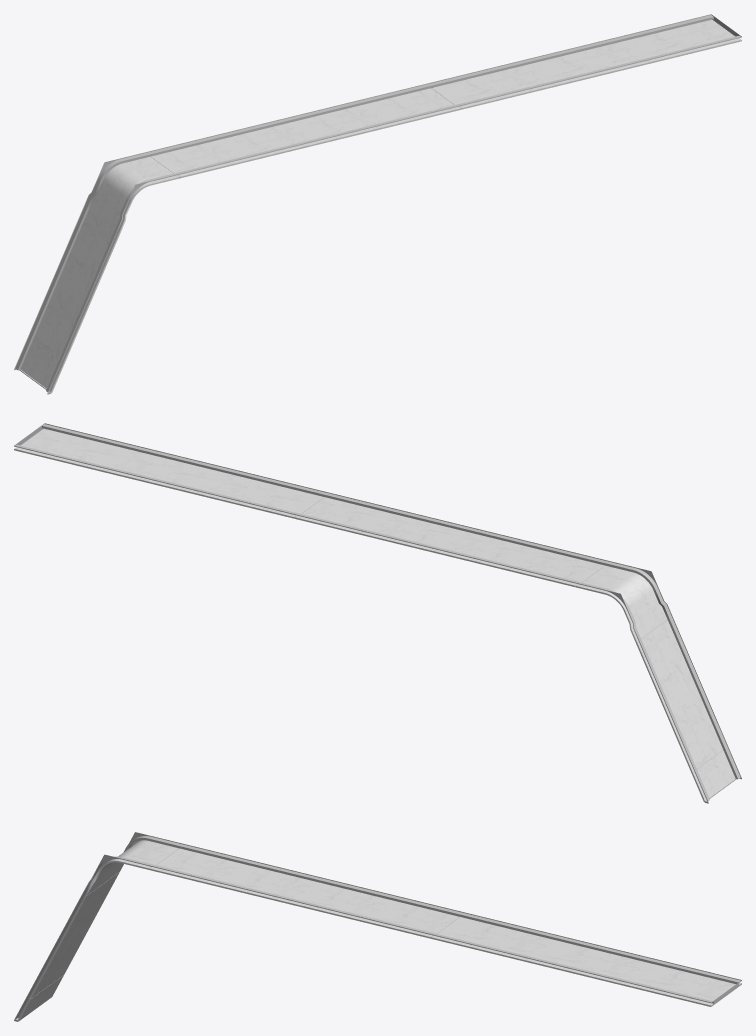
3 views of the same model, one above another, from view 1: azimuth 30°, elevation 25°; view 2: azimuth 150°, elevation 25°; view 3: azimuth 330°, elevation 25° (orthographic).
Parts seen in each view (by area): view 1: M_C_006_c_47x4; view 2: M_C_006_c_47x4; view 3: M_C_006_c_47x4.
Part boxes in pixels (<box>): M_C_006_c_47x4: <box>14,14,741,394</box>; M_C_006_c_47x4: <box>14,423,741,803</box>; M_C_006_c_47x4: <box>14,832,741,1021</box>.
Size of the model in its own units: 47.09 by 12.11 by 3.9.
